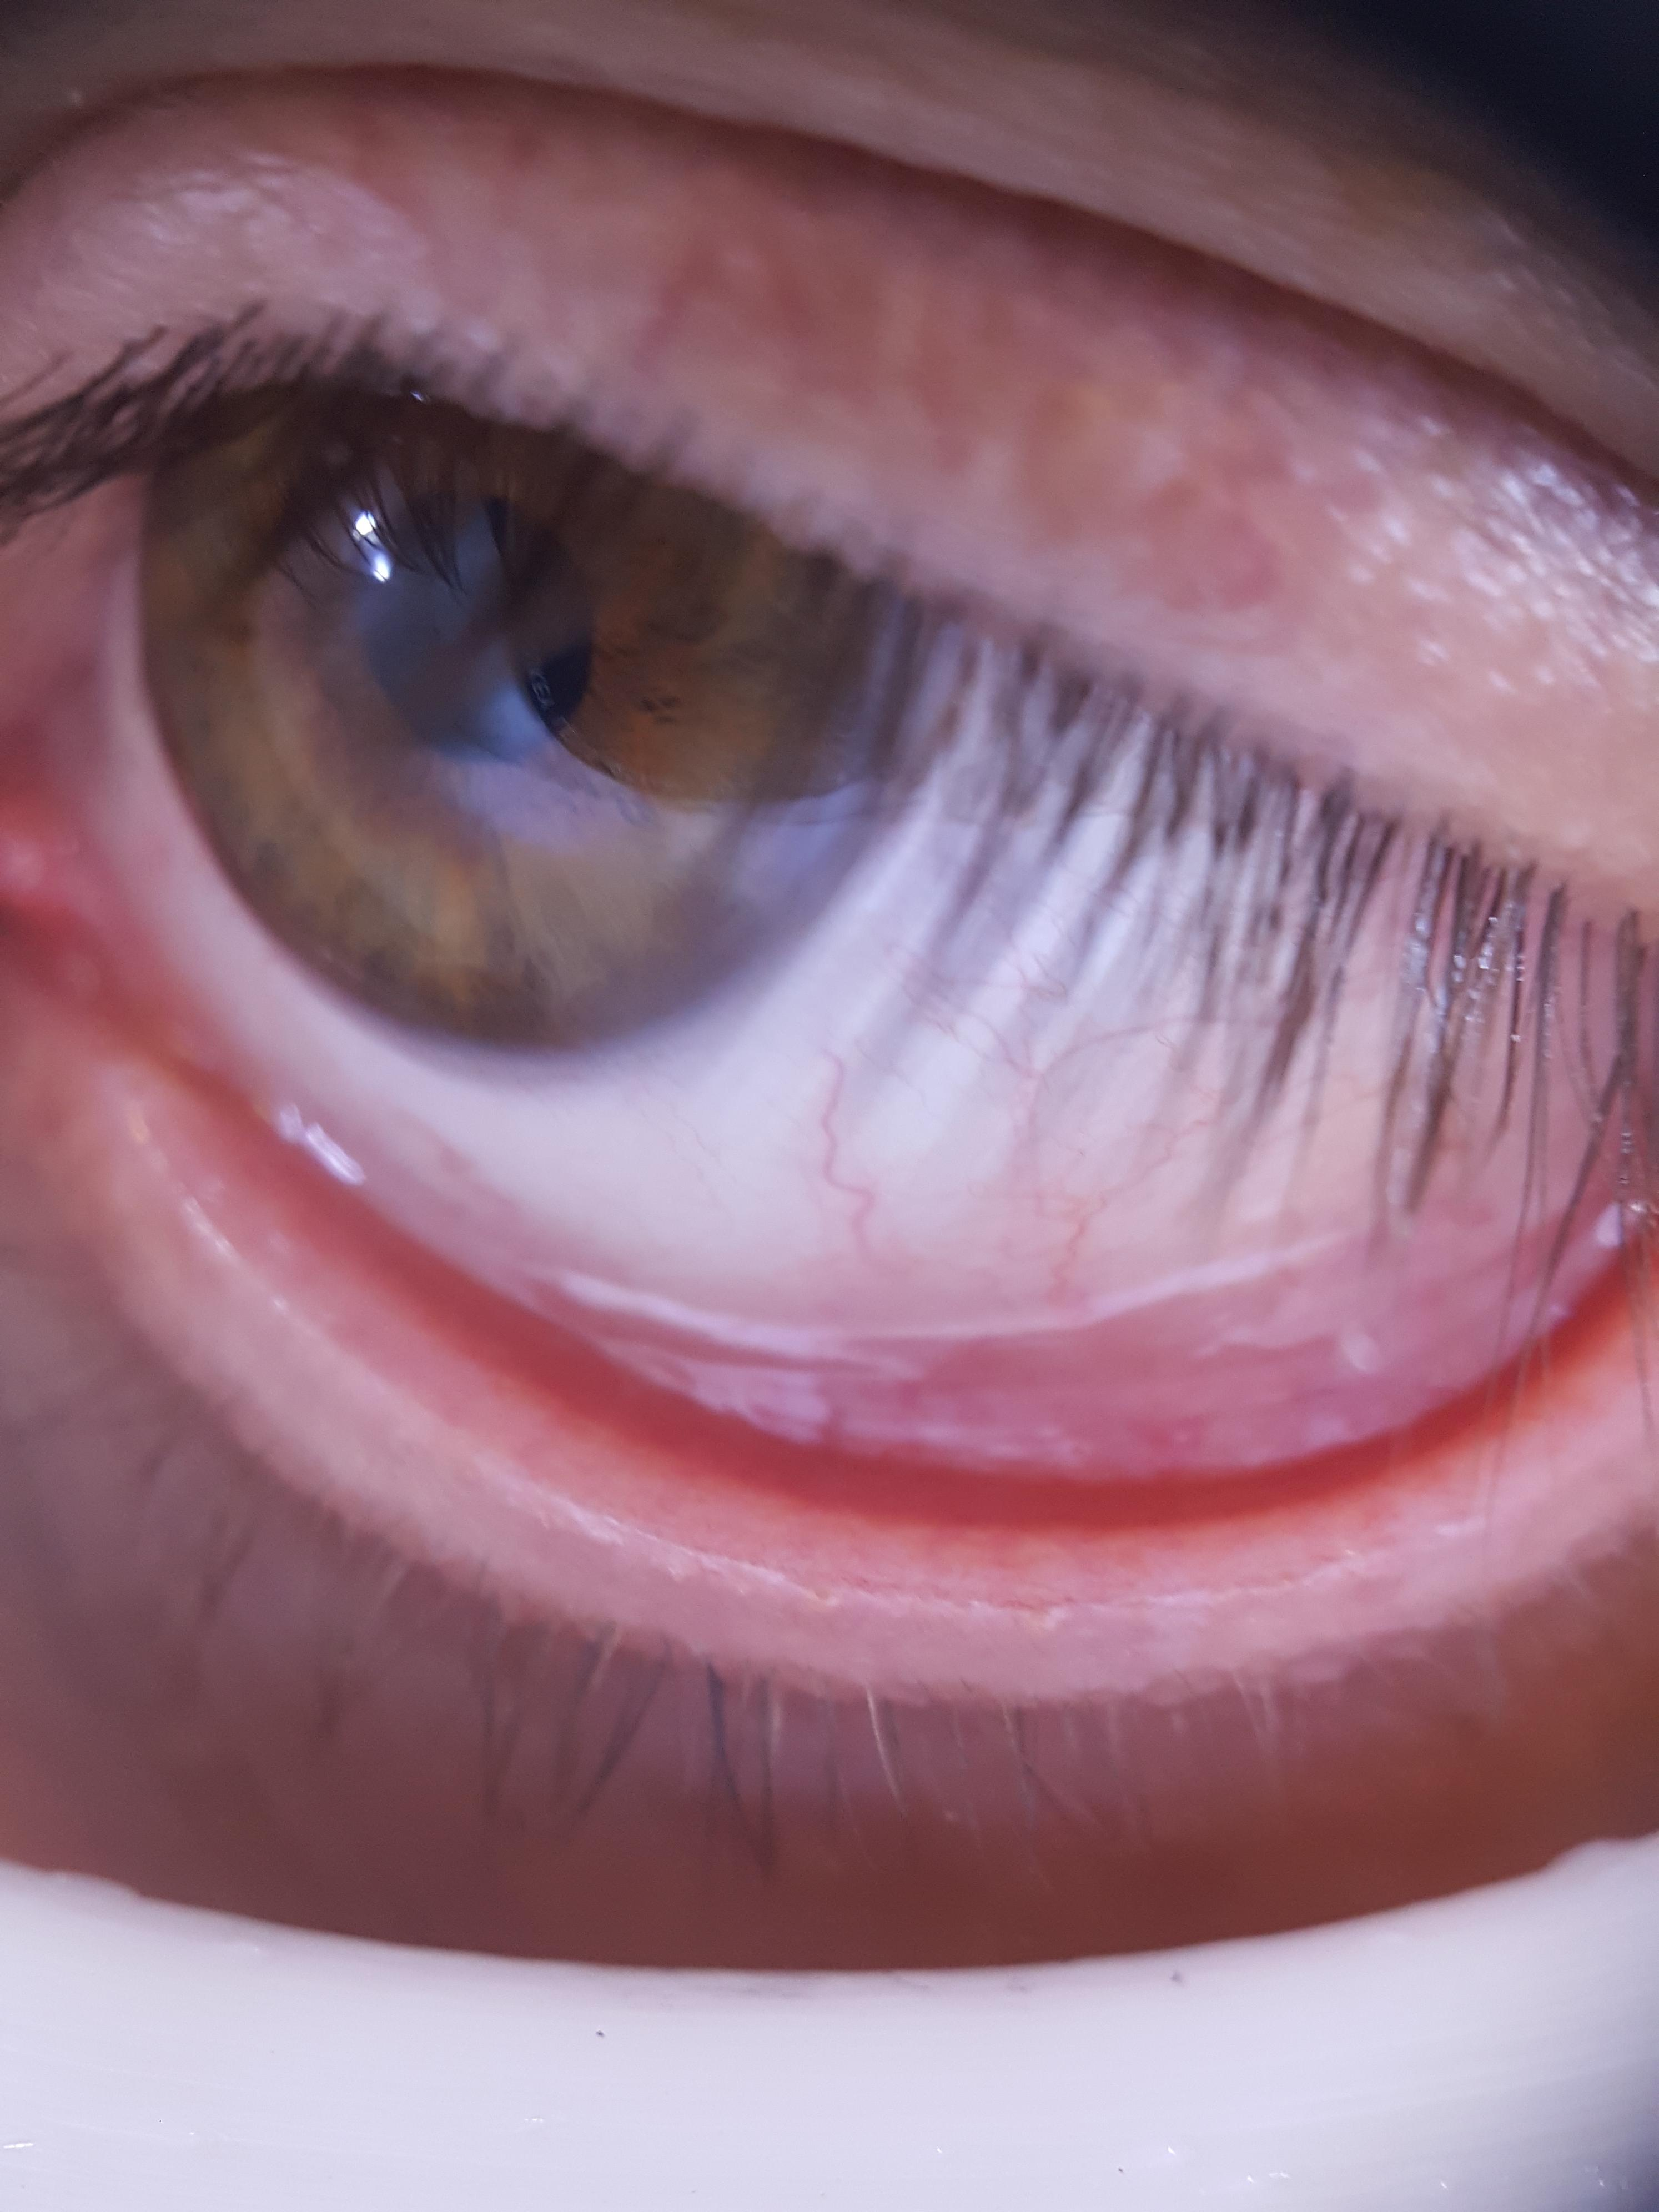forniceal: (228, 1062, 1527, 1470)
forniceal_palpebral: (115, 1010, 1532, 1550)
palpebral: (120, 1015, 1481, 1540)
